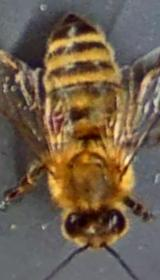varroa_mite: (46, 105, 66, 135)
